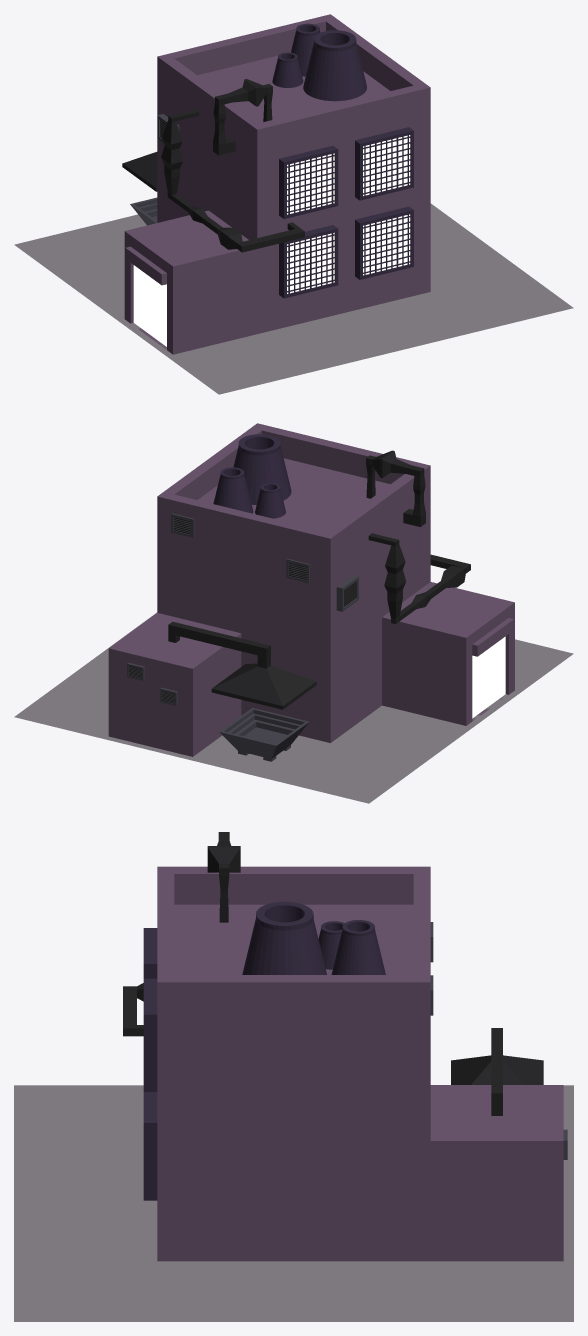
Rendered from factory.gltf.
The picture shows the model from 3 angles, top to bottom: view 1: azimuth 30°, elevation 25°; view 2: azimuth 150°, elevation 25°; view 3: azimuth 270°, elevation 25°; orthographic projection. The views are drawn at different scales.
Parts seen in each view (by area): view 1: Cube, window, doar; view 2: Cube, doar; view 3: Cube.
Part boxes in pixels (box(x1,y1,x2,y2)): Cube: box(14, 14, 573, 394); window: box(287, 135, 410, 293); doar: box(133, 265, 166, 346); Cube: box(14, 423, 573, 803); doar: box(472, 636, 505, 718); Cube: box(14, 832, 573, 1321).
Bounding box in the file's own units: 8.19 × 5.09 × 8.19.
Materials: 3 (1 with a texture image).
